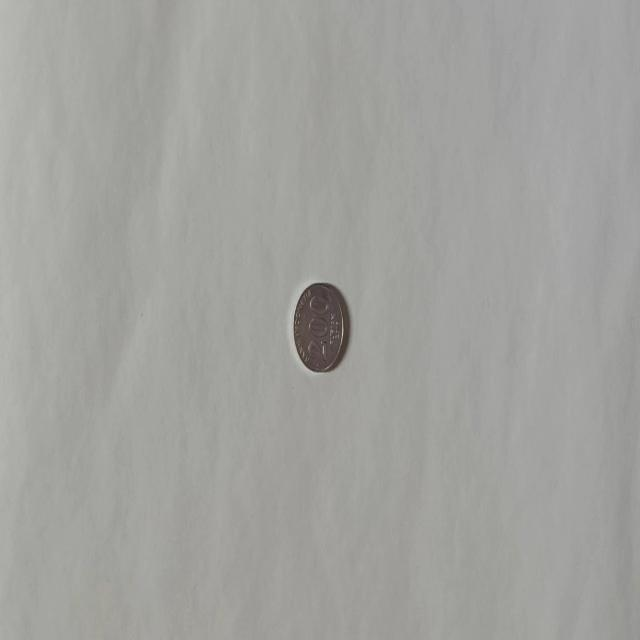dua ratus rupiah: (292, 280, 344, 372)
